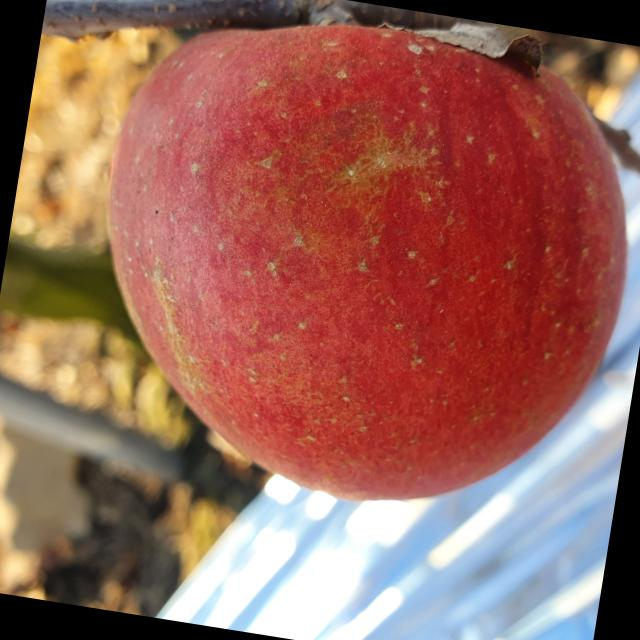fresh: (60, 1, 640, 543)
